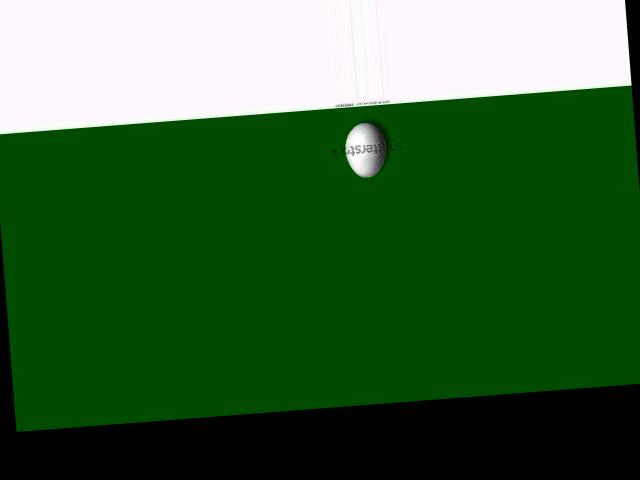egg: (343, 121, 388, 178)
